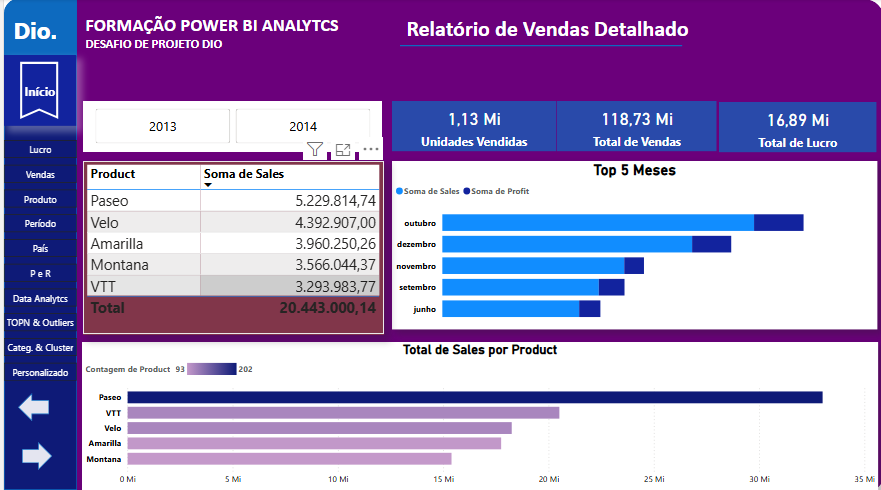

What the dashboard file says about the page in this screenshot:
{"tool":"powerbi","page":{"name":"Início","canvas":[1280,720],"ordinal":0},"visuals":[{"type":"shape","box":[0,0,106,715],"z":0,"group":"g3"},{"type":"shape","title":"Fundo","box":[0,1.9,1280,719],"z":0},{"type":"textbox","box":[632.1,18.2,180.4,47.9],"z":0,"group":"g1"},{"type":"shape","box":[113.4,40.7,284.8,18.2],"z":0,"group":"g2"},{"type":"shape","box":[600.9,91.2,668.1,322],"z":0,"group":"g4"},{"type":"shape","box":[112.4,319.7,457,394.5],"z":0,"group":"g5"},{"type":"shape","box":[0,0,106,82.6],"z":1000,"group":"g3"},{"type":"textbox","box":[114.9,0,283.3,56],"z":1000,"group":"g2"},{"type":"slicer","fields":{"Values":["financials.Date"]},"box":[815.8,1.9,348.9,60.6],"z":1000,"group":"g1"},{"type":"areaChart","title":"Total de Vendas e Total de Lucro por Mês","fields":{"Category":["financials.Date.Variation.Hierarquia de datas.Ano","financials.Date.Variation.Hierarquia de datas.Mês"],"Y":["Sum(financials.Sales)"]},"box":[603.9,84.1,664.3,325.9],"z":1000,"group":"g4"},{"type":"clusteredBarChart","fields":{"Y":["Sum(financials.Sales)"],"Category":["financials.Product"]},"box":[113.1,313.3,451.1,384.6],"z":1000,"group":"g5"},{"type":"shape","box":[113.7,474.2,451.1,225.5],"z":1000},{"type":"group","id":"g1","title":"Filtro de Data","box":[632.1,1.9,647.8,64.3],"z":2000},{"type":"image","title":"Borracha","box":[1189.6,4.2,66.8,57.9],"z":2000,"group":"g1"},{"type":"textbox","title":"Logo Dio","box":[9.2,22,89.7,53.1],"z":2000,"group":"g3"},{"type":"clusteredBarChart","title":"Vendas por Segmento","fields":{"Y":["Sum(financials.Sales)"],"Category":["financials.Segment"]},"box":[111.9,312.7,457.5,398.4],"z":2000,"group":"g5"},{"type":"group","id":"g2","title":"Subtítulo","box":[113.4,0,284.7,60.2],"z":3000},{"type":"actionButton","box":[1169.8,7.3,110.1,57.8],"z":3000,"group":"g1"},{"type":"actionButton","title":"Botão Produto","box":[128.1,225.2,191.2,69.2],"z":3000,"group":"g5"},{"type":"actionButton","title":"Botão Segmento","box":[359,226.6,179.1,70.5],"z":4000,"group":"g5"},{"type":"group","id":"g3","title":"Dio","box":[0,0,106,715],"z":5000},{"type":"shape","box":[591.2,75,683.6,640],"z":6000,"group":"g6"},{"type":"shape","box":[25.8,643.8,43.9,40.9],"z":6000},{"type":"image","box":[398.4,3,122.7,57.6],"z":7000},{"type":"group","id":"g4","title":"Gráfico de Linha","box":[600.9,84.1,668.1,329.1],"z":7000,"group":"g6"},{"type":"group","id":"g5","title":"Grupo 1","box":[111.9,225.2,457.6,488.9],"z":8000},{"type":"pivotTable","title":"Vendas por Ano Trimestre e Mês","fields":{"Values":["Sum(financials.Sales)"],"Rows":["financials.Date.Variation.Hierarquia de datas.Trimestre","financials.Date.Variation.Hierarquia de datas.Mês"],"Columns":["financials.Date.Variation.Hierarquia de datas.Ano"]},"box":[597,429,672,279.1],"z":8000,"group":"g6"},{"type":"pageNavigator","box":[0,82.7,106.7,561.6],"z":9000},{"type":"group","id":"g6","title":"Grupo 2","box":[591.2,75,683.6,640],"z":10000},{"type":"shape","box":[116.8,71.5,223.2,120.3],"z":10500,"group":"g7"},{"type":"card","fields":{"Values":["Sum(financials.Sales)"]},"box":[132.5,87.2,191.8,88.9],"z":11000,"group":"g7"},{"type":"shape","box":[345.2,71.5,223.2,120.3],"z":12250,"group":"g7"},{"type":"card","fields":{"Values":["Sum(financials.Units Sold)"]},"box":[353.4,84.2,192.3,93.4],"z":12500,"group":"g7"},{"type":"group","id":"g7","title":"Grupo 3","box":[116.8,71.5,451.7,120.3],"z":12501}]}

Visuals, with their boxes on the page's 1280x720 design canvas (x1, y1, x2, y2). These are canvas units, not pixel positions in the 881x490 screenshot, which may show the page scaled, cropped or inside an application window:
shape: 0, 0, 106, 715
"Fundo" shape: 0, 2, 1280, 721
textbox: 632, 18, 812, 66
shape: 113, 41, 398, 59
shape: 601, 91, 1269, 413
shape: 112, 320, 569, 714
shape: 0, 0, 106, 83
textbox: 115, 0, 398, 56
slicer - financials.Date: 816, 2, 1165, 62
"Total de Vendas e Total de Lucro por Mês" areaChart: 604, 84, 1268, 410
clusteredBarChart - Sum(financials.Sales) x financials.Product: 113, 313, 564, 698
shape: 114, 474, 565, 700
"Filtro de Data" group: 632, 2, 1280, 66
"Borracha" image: 1190, 4, 1256, 62
"Logo Dio" textbox: 9, 22, 99, 75
"Vendas por Segmento" clusteredBarChart: 112, 313, 569, 711
"Subtítulo" group: 113, 0, 398, 60
actionButton: 1170, 7, 1280, 65
"Botão Produto" actionButton: 128, 225, 319, 294
"Botão Segmento" actionButton: 359, 227, 538, 297
"Dio" group: 0, 0, 106, 715
shape: 591, 75, 1275, 715
shape: 26, 644, 70, 685
image: 398, 3, 521, 61
"Gráfico de Linha" group: 601, 84, 1269, 413
"Grupo 1" group: 112, 225, 570, 714
"Vendas por Ano Trimestre e Mês" pivotTable: 597, 429, 1269, 708
pageNavigator: 0, 83, 107, 644
"Grupo 2" group: 591, 75, 1275, 715
shape: 117, 72, 340, 192
card - Sum(financials.Sales): 132, 87, 324, 176
shape: 345, 72, 568, 192
card - Sum(financials.Units Sold): 353, 84, 546, 178
"Grupo 3" group: 117, 72, 568, 192
